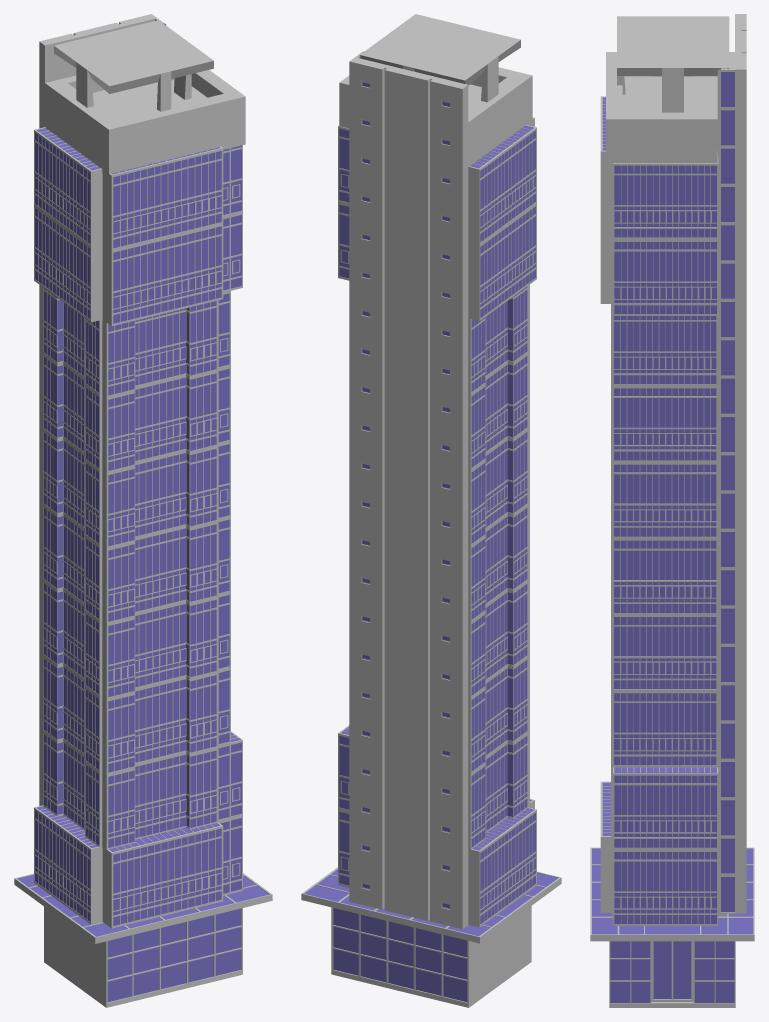
The model's file is building.obj.
3 renders of one model, left to right at view 1: azimuth 30°, elevation 25°; view 2: azimuth 150°, elevation 25°; view 3: azimuth 270°, elevation 25°, orthographic.
Parts seen in each view (by area): view 1: skyscraper7_Cube.043; view 2: skyscraper7_Cube.043; view 3: skyscraper7_Cube.043.
Boxes of the visible parts, bbox=[...] form: skyscraper7_Cube.043: bbox=[14, 14, 272, 1007]; skyscraper7_Cube.043: bbox=[301, 14, 561, 1007]; skyscraper7_Cube.043: bbox=[590, 14, 754, 1007].
Size of the model in its own units: 1.87 by 9.24 by 1.48.
